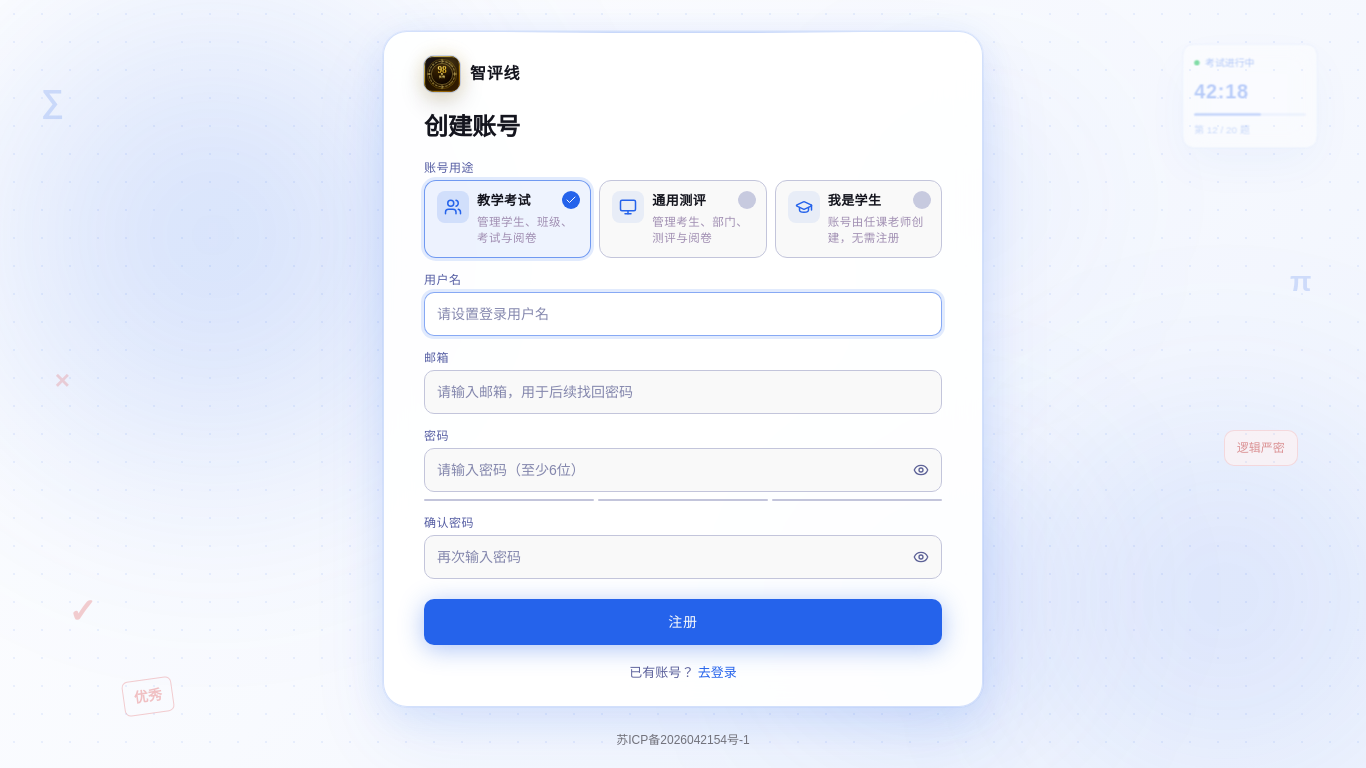
Test case: RegisterPage › shows the registration conflict returned by the auth provider
In the field labelled "用户名": (683, 314) [424,292,942,336], type "jiang"
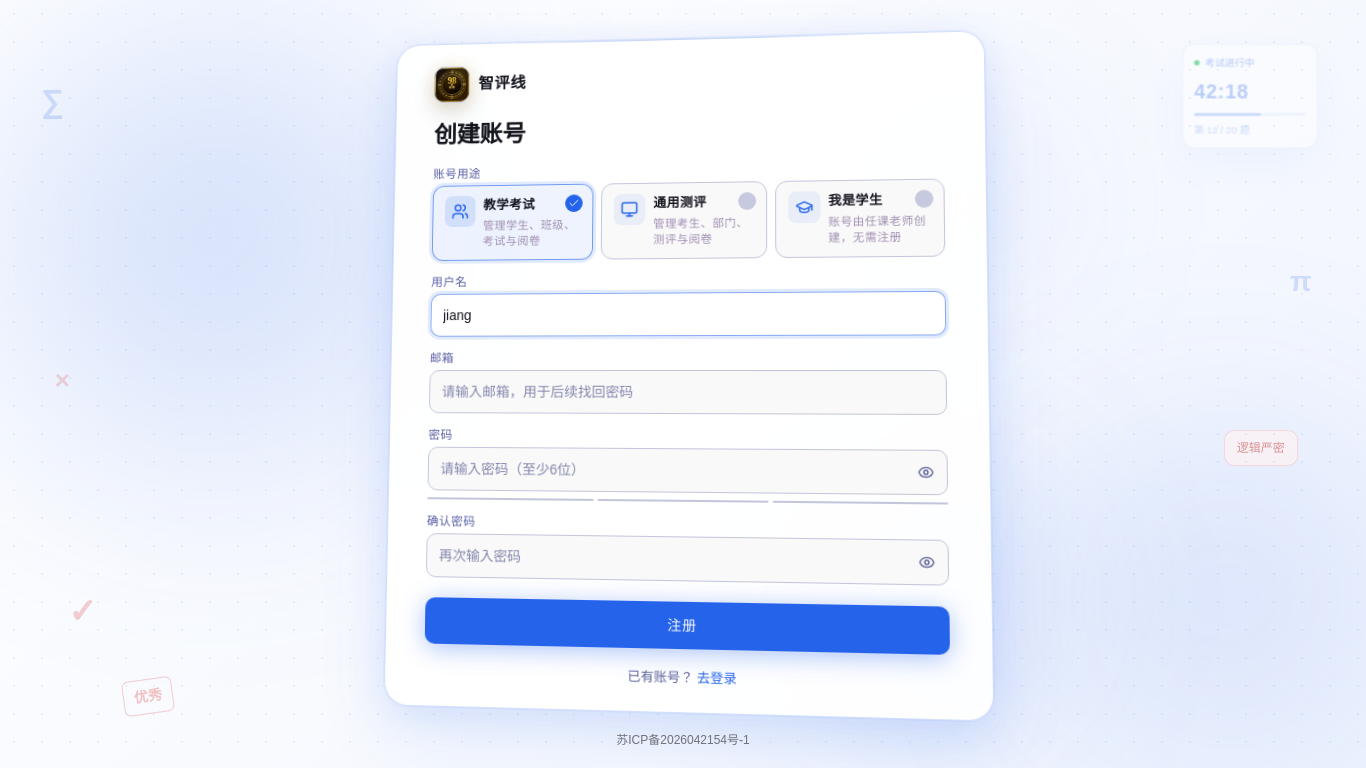
In the password field labelled "密码": (688, 471) [428,446,948,495], type "12345678"
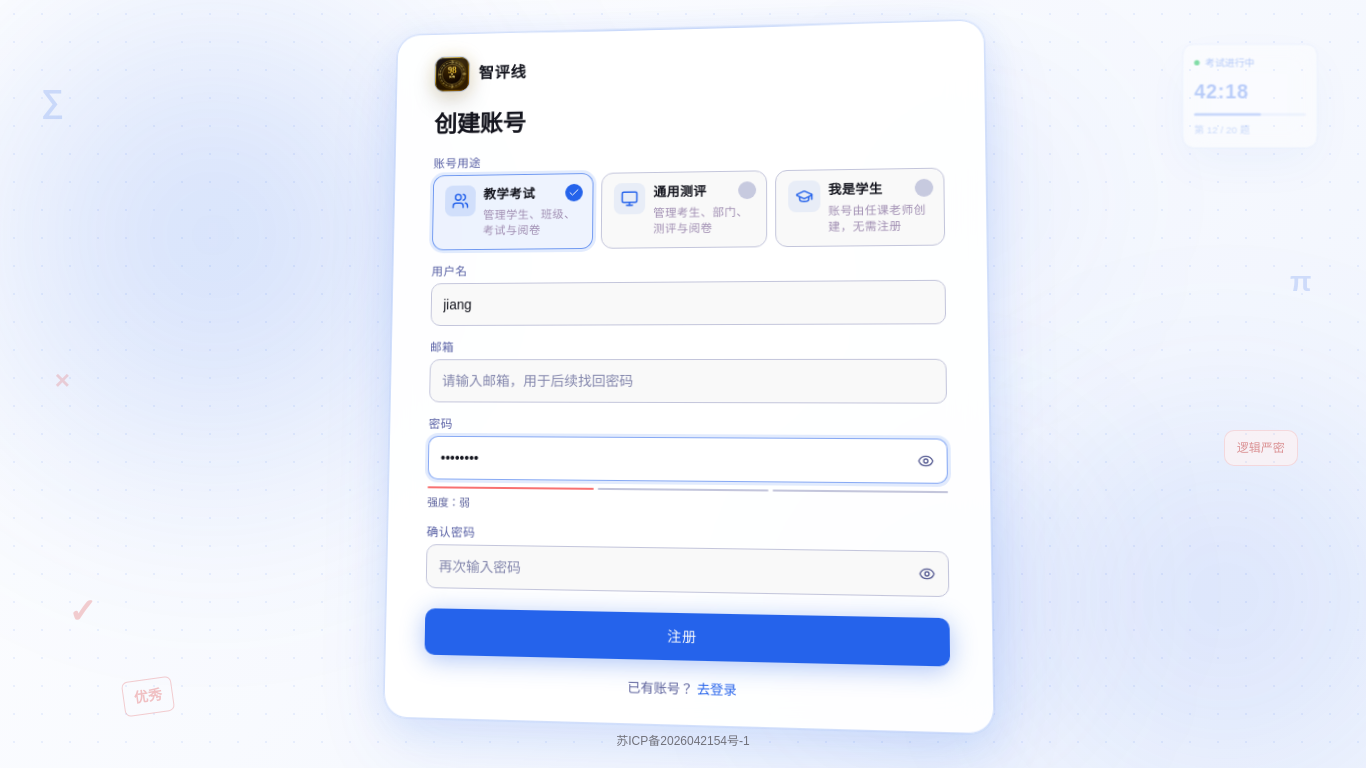
In the password field labelled "确认密码": (688, 571) [426,544,949,598], type "12345678"
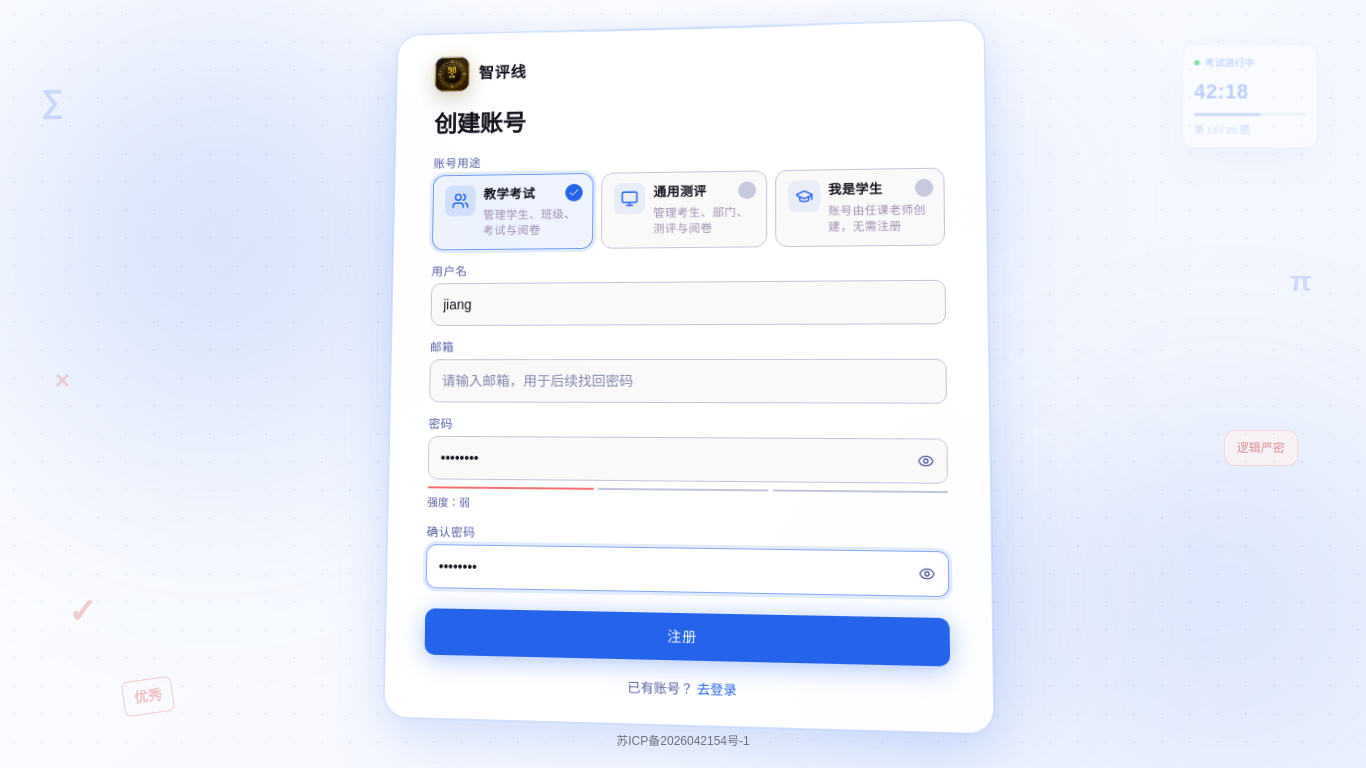
Click the button "注册": (687, 638) [424,609,950,667]
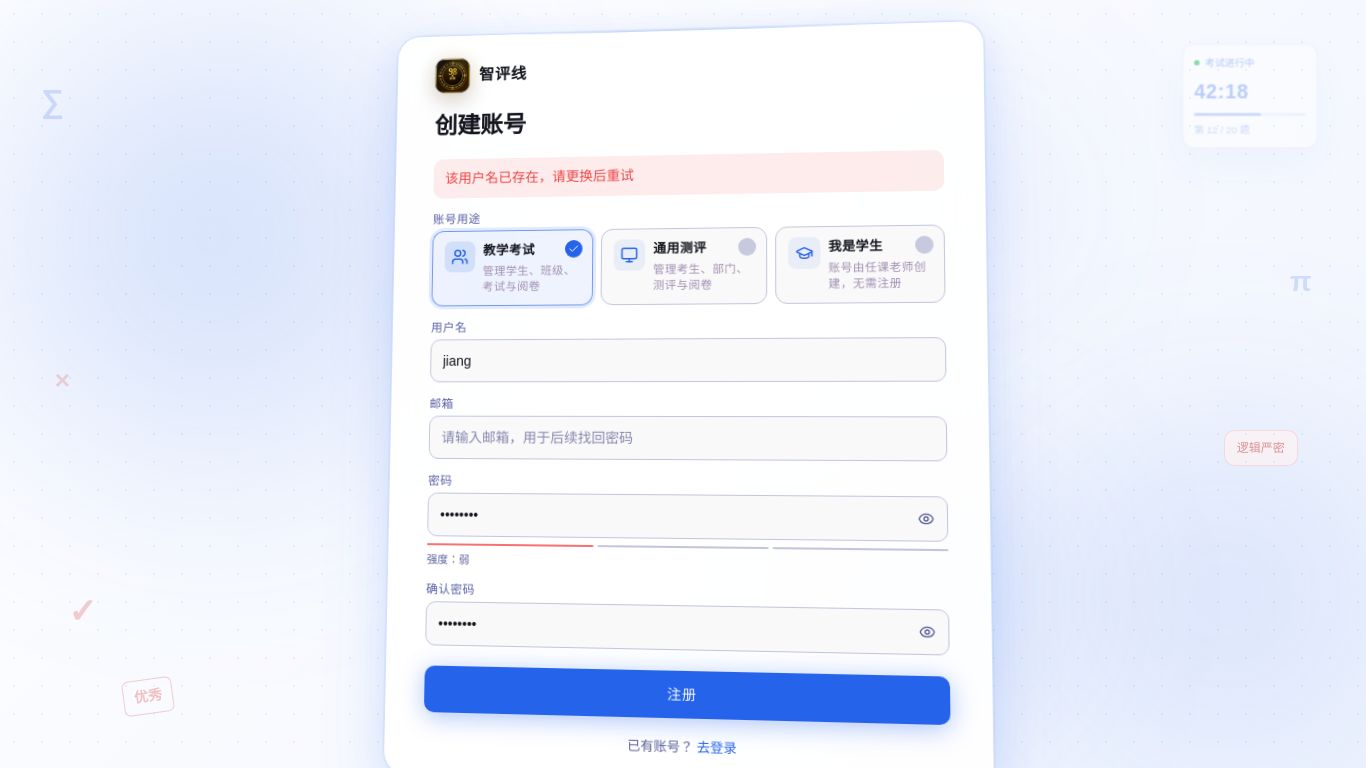
Expected: the text "该用户名已存在，请更换后重试" is shown, [433,150,944,199]
